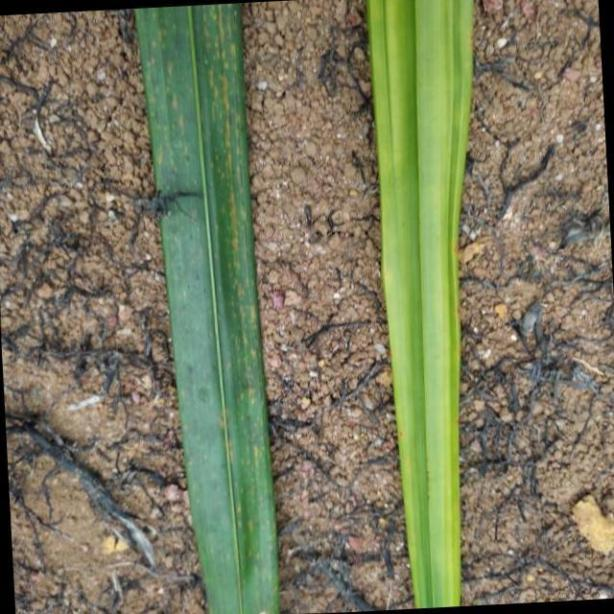nitrogen: (126, 0, 282, 614), (365, 0, 470, 614)
